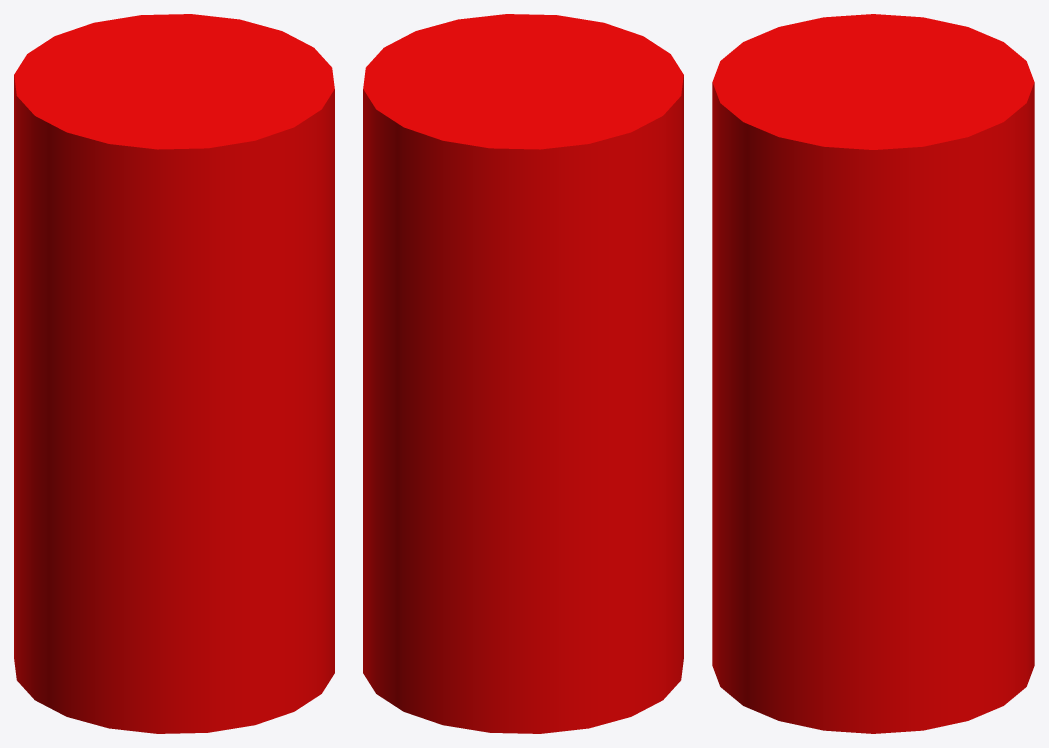
The model's file is unity default resourcesRedDangerRedDanger.glb.
The picture shows the model from 3 angles, left to right: view 1: azimuth 30°, elevation 25°; view 2: azimuth 150°, elevation 25°; view 3: azimuth 270°, elevation 25°; orthographic projection.
Parts seen in each view (by area): view 1: Cylinder; view 2: Cylinder; view 3: Cylinder.
Part boxes in pixels (bbox=[...]): Cylinder: bbox=[14, 14, 334, 733]; Cylinder: bbox=[363, 14, 683, 733]; Cylinder: bbox=[712, 14, 1034, 733].
Bounding box in the file's own units: 1 × 2 × 1.
